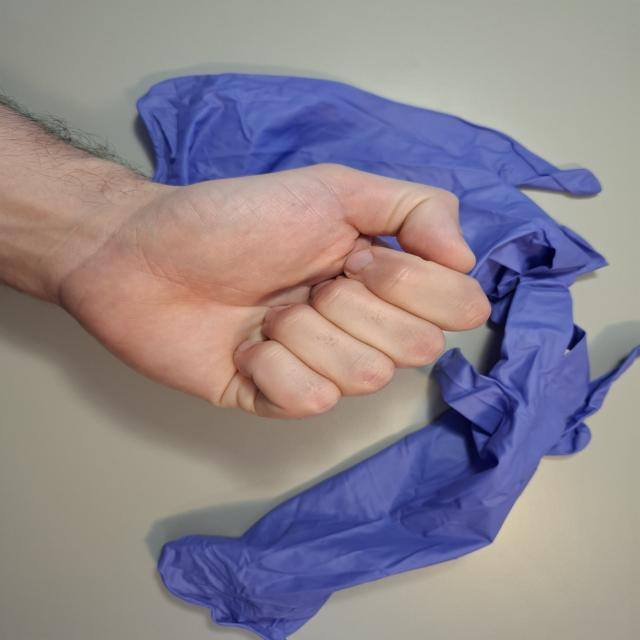glove_off: (41, 160, 496, 422)
